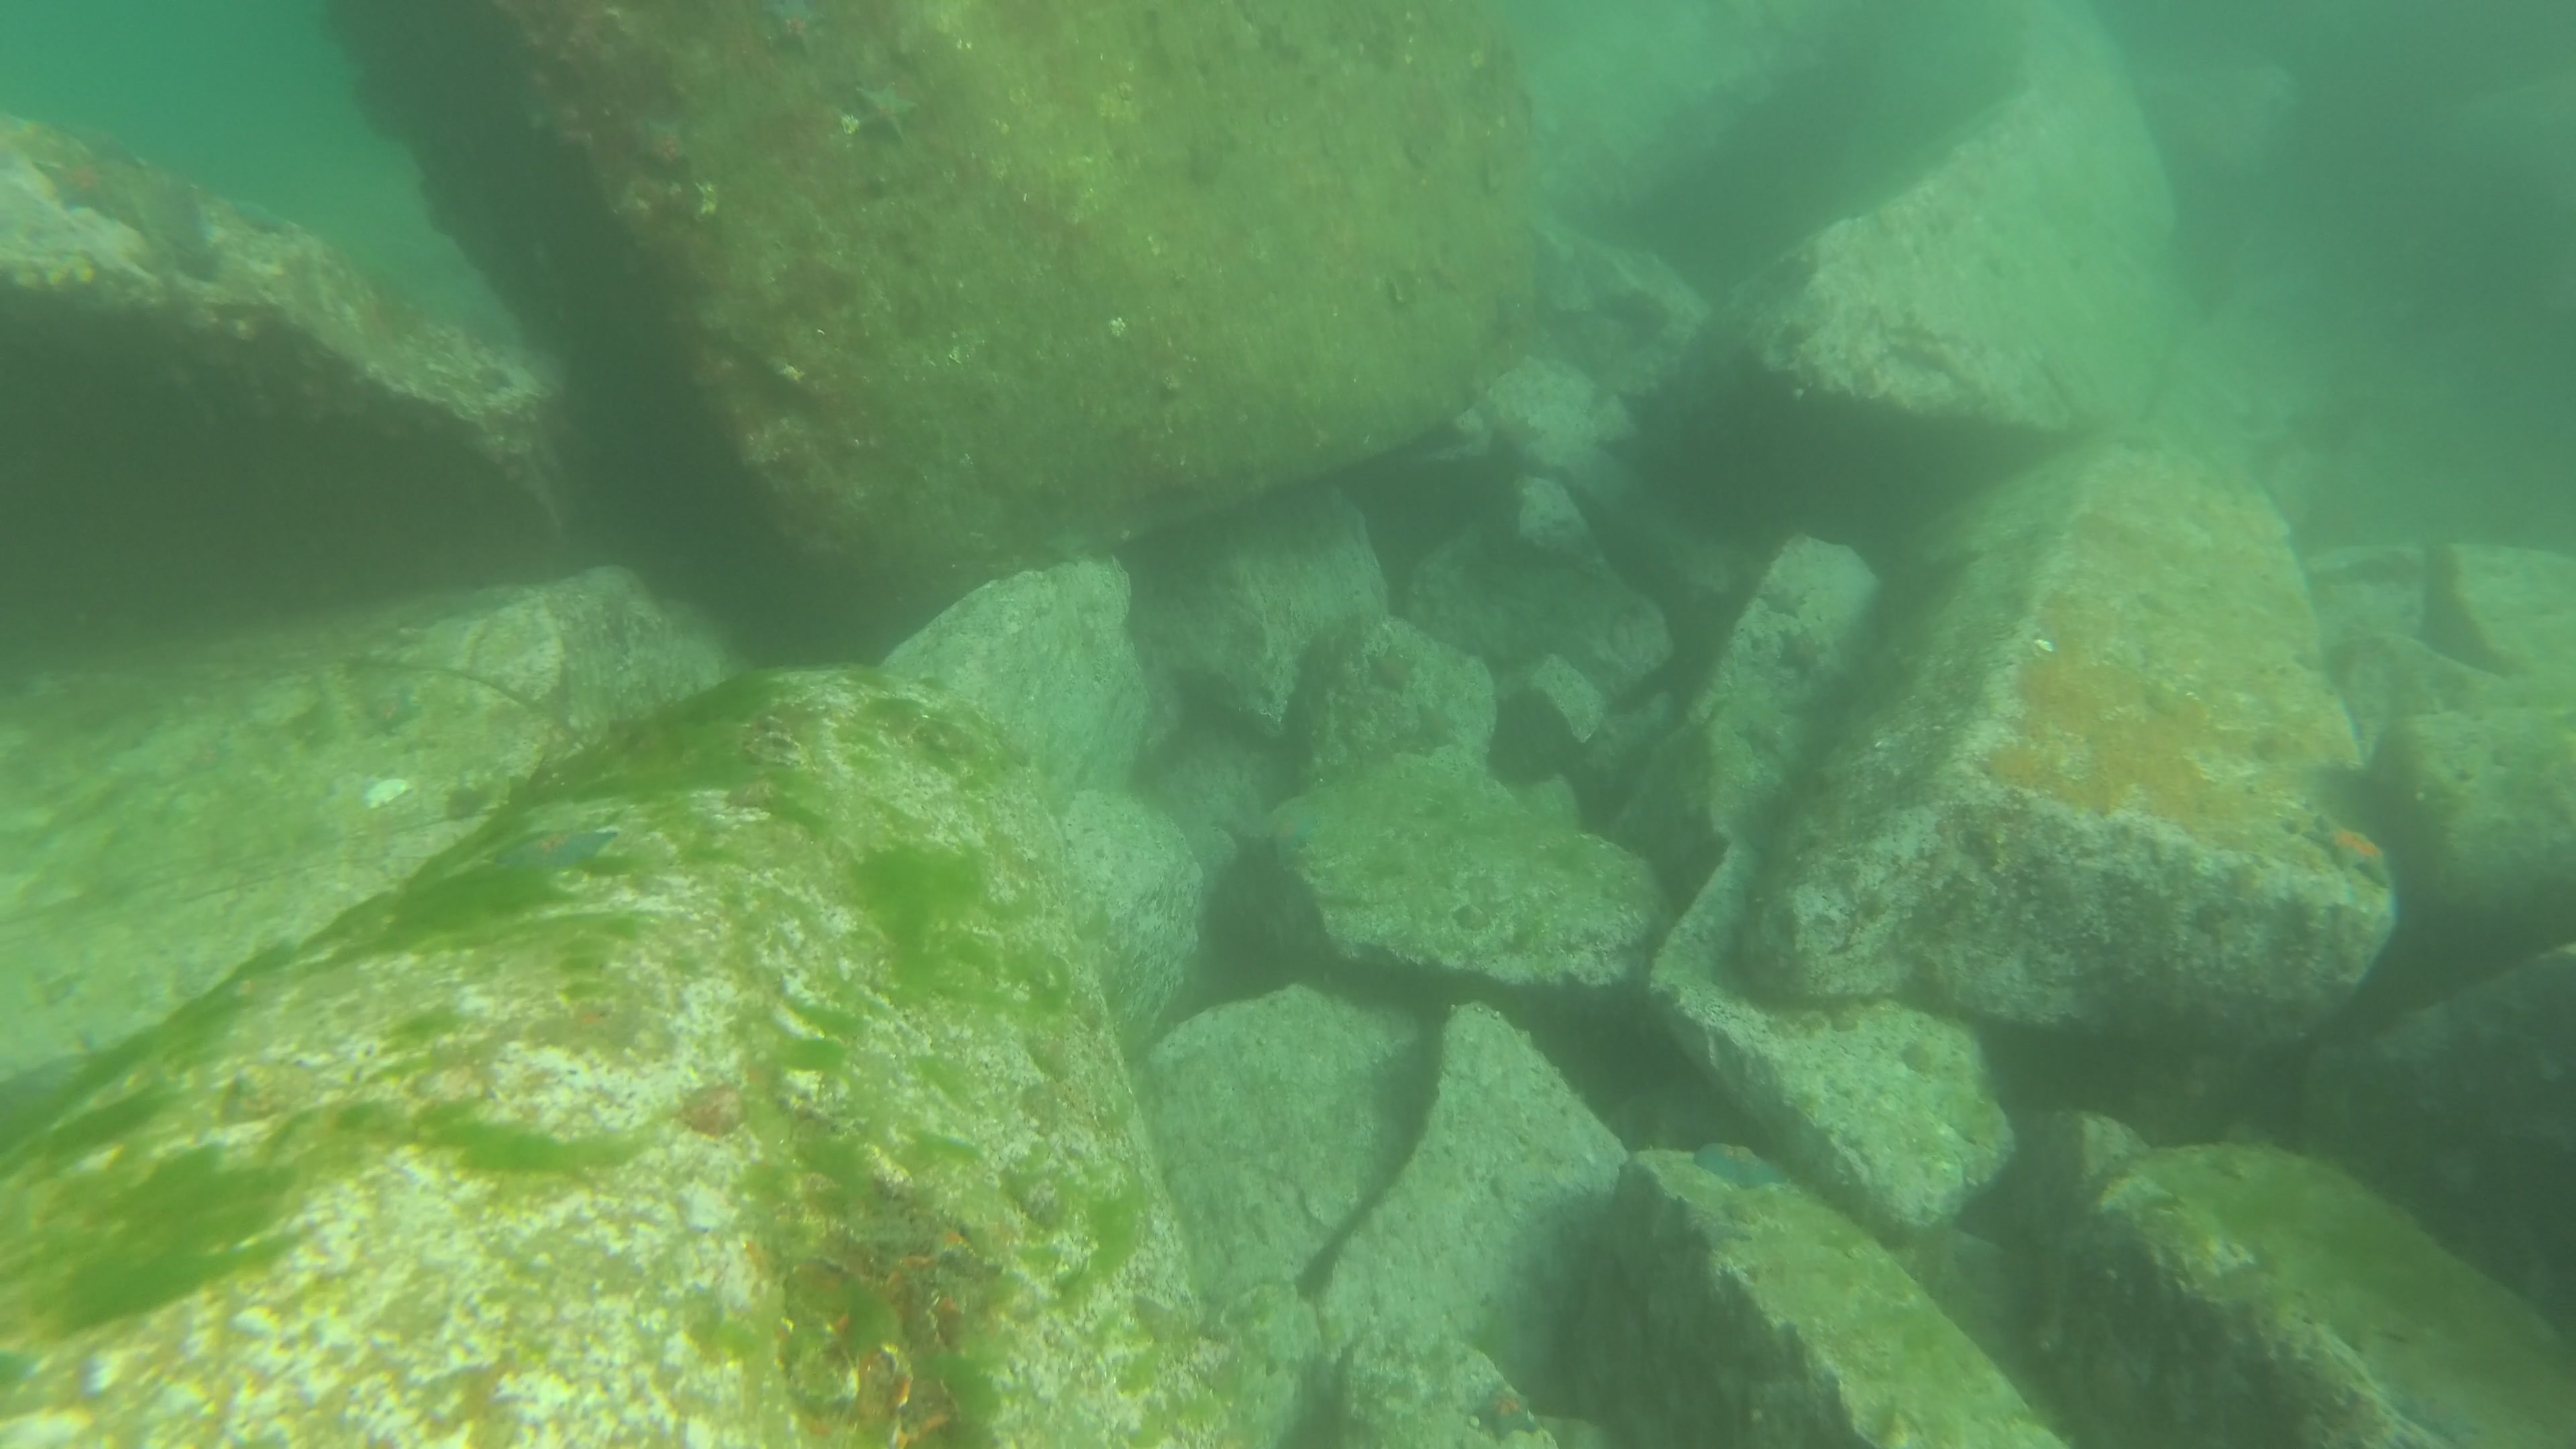starfish: (487, 821, 616, 883), (2305, 812, 2399, 890), (1686, 1134, 1789, 1194), (1468, 1380, 1537, 1447), (356, 683, 425, 743), (1364, 644, 1422, 697), (1752, 579, 1813, 623)
